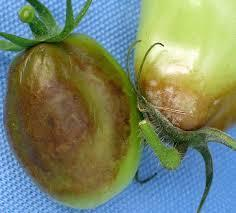tomato late blight: (4, 35, 147, 211), (136, 1, 236, 132)
